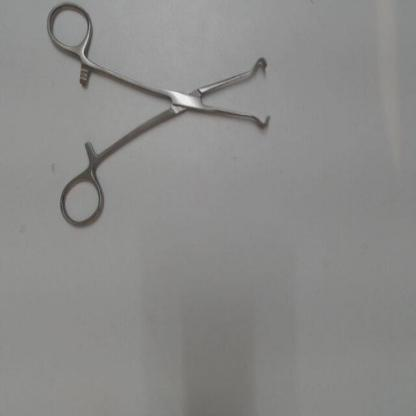Babcock Tissue Forceps: (42, 3, 278, 233)
